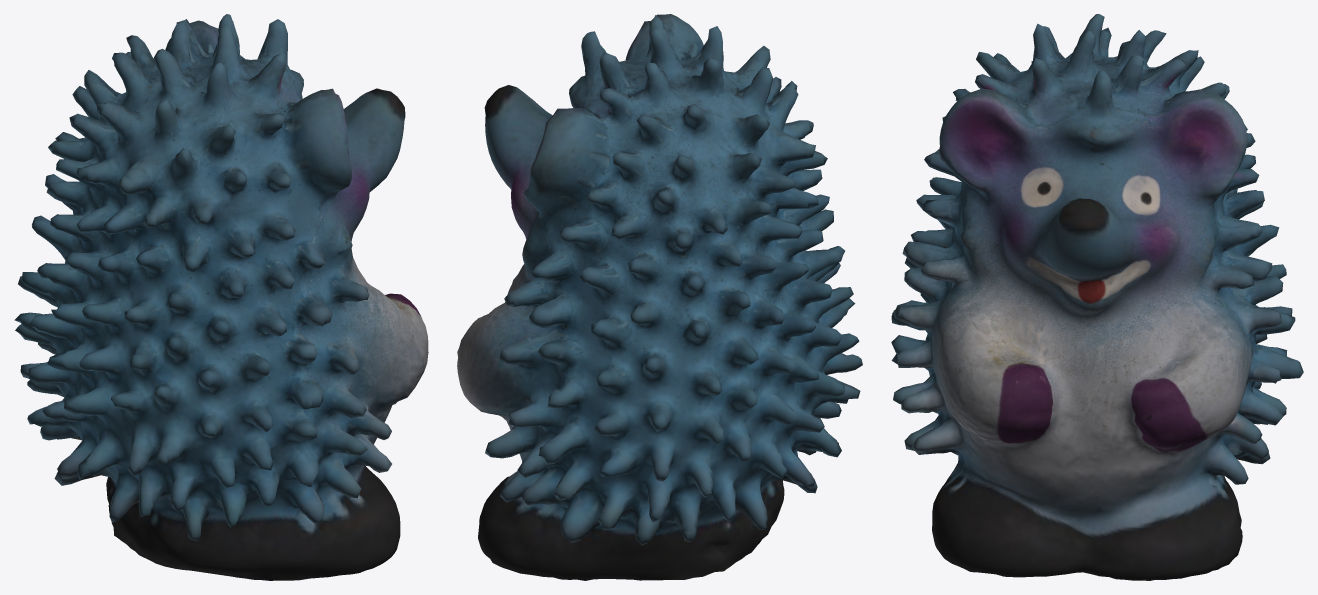
File: pet_type_2.glb
3 renders of one model, left to right at view 1: azimuth 30°, elevation 25°; view 2: azimuth 150°, elevation 25°; view 3: azimuth 270°, elevation 25°, orthographic. The views are drawn at different scales.
Parts seen in each view (by area): view 1: hedgehog_low; view 2: hedgehog_low; view 3: hedgehog_low.
Part boxes in pixels (x1=…): hedgehog_low: x1=14, y1=14, x2=428, y2=580; hedgehog_low: x1=457, y1=14, x2=862, y2=580; hedgehog_low: x1=891, y1=14, x2=1303, y2=580.
Bounding box in the file's own units: 0.3228 × 0.4484 × 0.3415.
1 material, 1 textured.
